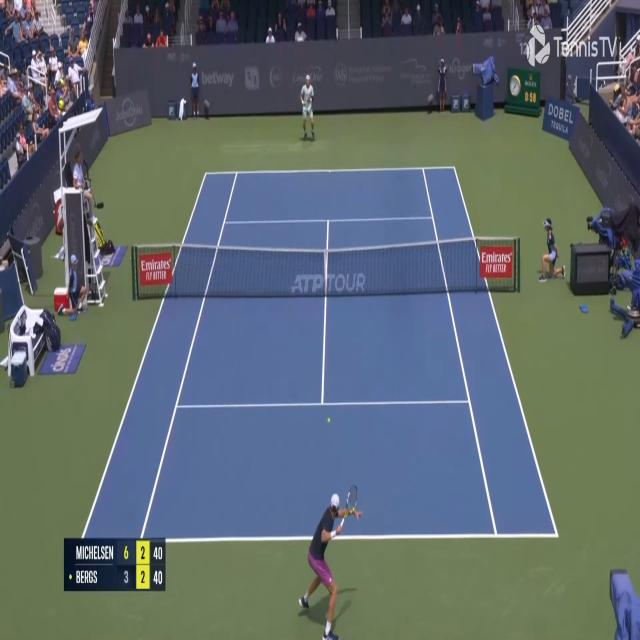tennis-player: (295, 488, 362, 638), (300, 73, 316, 140)
